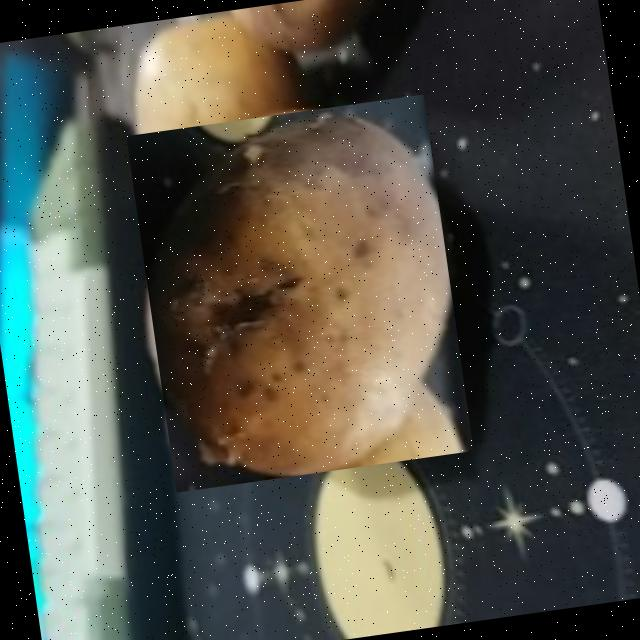Damaged potato: (126, 94, 474, 492)
Potato: (126, 4, 321, 228)
